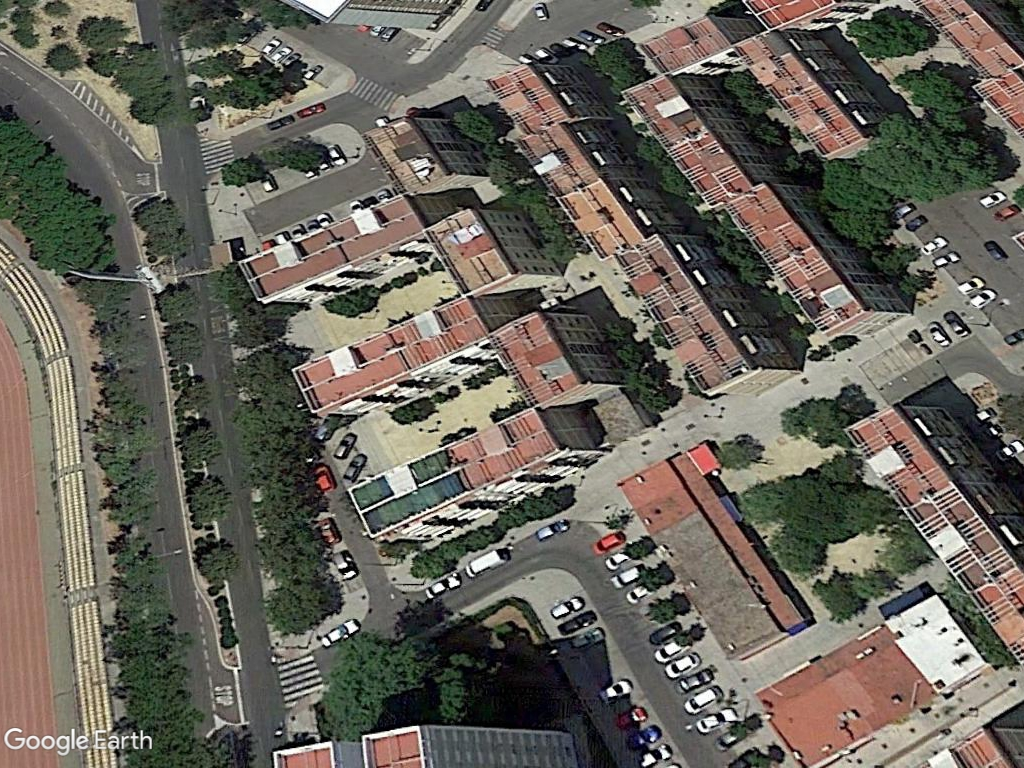car: (313, 614, 363, 656), (922, 318, 955, 353)
truck: (459, 548, 513, 578)
